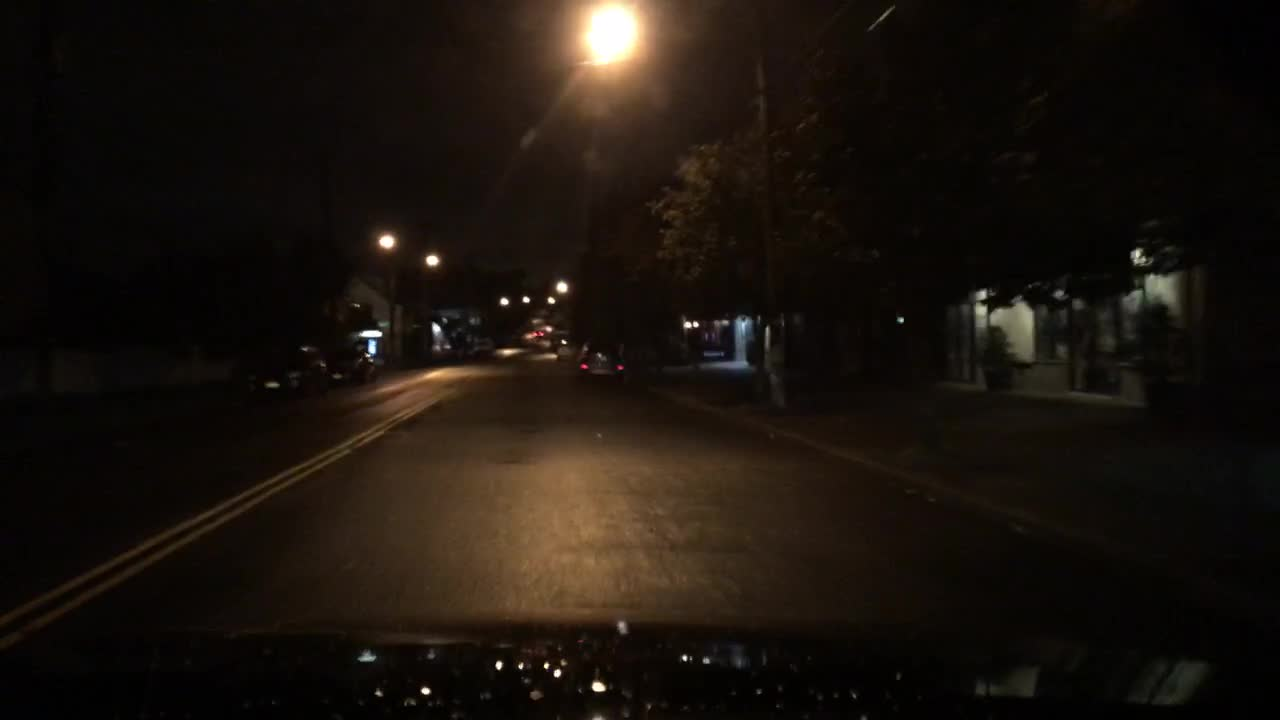car: (252, 342, 335, 406), (404, 318, 458, 362), (325, 336, 376, 382), (580, 341, 627, 376), (460, 321, 496, 356), (556, 338, 586, 359), (534, 325, 556, 348), (521, 322, 536, 344)
